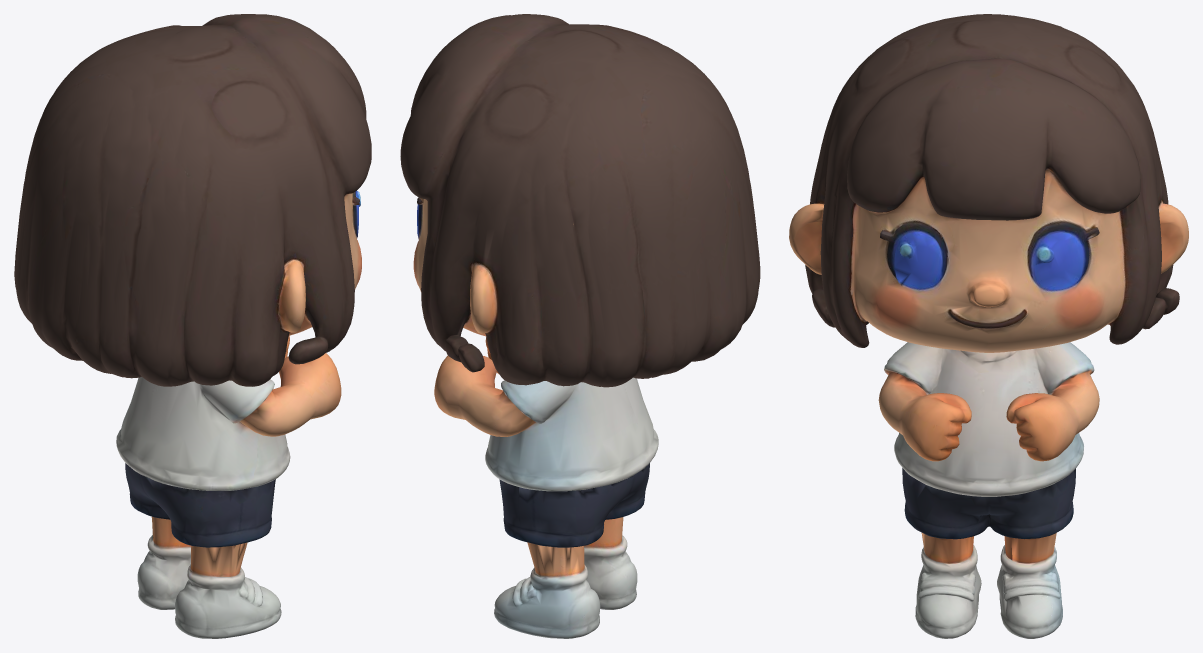
File: girl3.glb
3 renders of one model, left to right at view 1: azimuth 30°, elevation 25°; view 2: azimuth 150°, elevation 25°; view 3: azimuth 270°, elevation 25°, orthographic.
Parts seen in each view (by area): view 1: tripo_node_34637412-8469-4137-be2b-8bf92c0b64ae; view 2: tripo_node_34637412-8469-4137-be2b-8bf92c0b64ae; view 3: tripo_node_34637412-8469-4137-be2b-8bf92c0b64ae.
Boxes of the visible parts, <box> form: tripo_node_34637412-8469-4137-be2b-8bf92c0b64ae: <box>14,14,371,638</box>; tripo_node_34637412-8469-4137-be2b-8bf92c0b64ae: <box>400,14,760,638</box>; tripo_node_34637412-8469-4137-be2b-8bf92c0b64ae: <box>789,14,1188,638</box>.
Bounding box in the file's own units: 0.5686 × 1 × 0.6258.
Materials: 1 (1 with a texture image).
